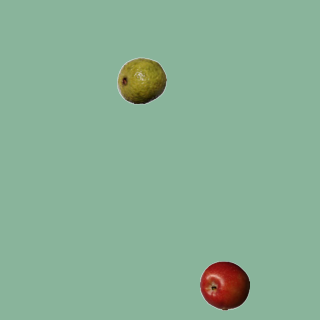Apple Braeburn: (199, 260, 249, 310)
Guava: (116, 55, 166, 105)
